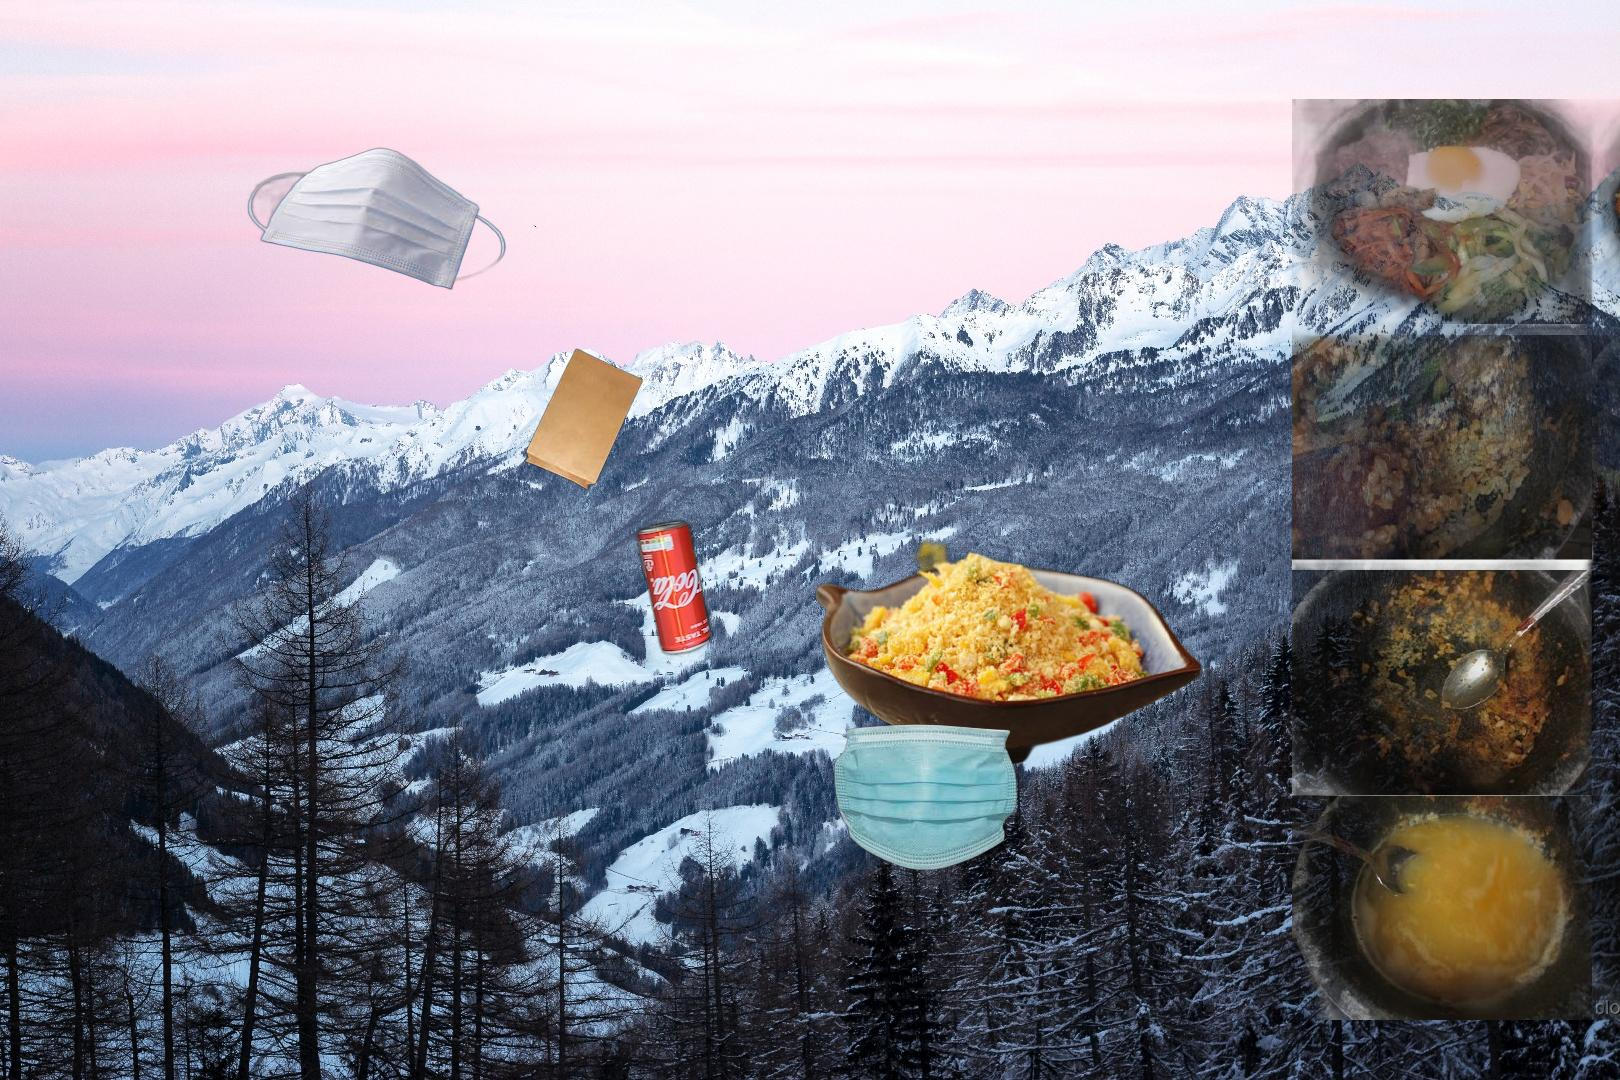biological: (1292, 99, 1620, 1020), (810, 533, 1207, 767)
metal-cans: (632, 513, 716, 661)
paper-bag: (522, 348, 646, 493)
trash: (245, 142, 507, 295), (830, 722, 1020, 871)
